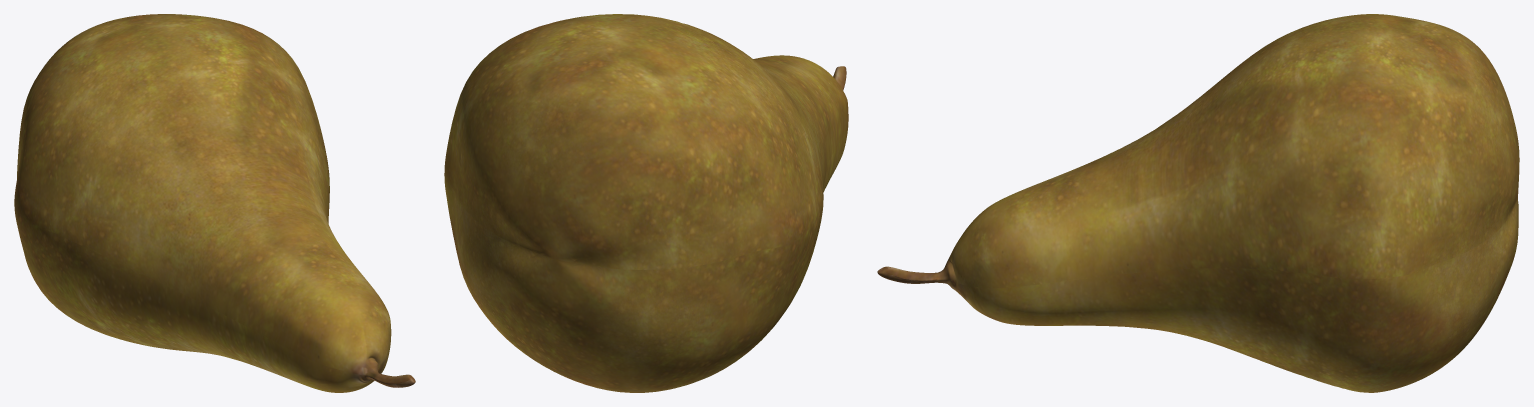
Rendered from 10197_Pear.obj.
3 renders of one model, left to right at view 1: azimuth 30°, elevation 25°; view 2: azimuth 150°, elevation 25°; view 3: azimuth 270°, elevation 25°, orthographic. The views are drawn at different scales.
Parts seen in each view (by area): view 1: Pear; view 2: Pear; view 3: Pear.
Boxes of the visible parts, x1,y1,x2,y2 form: Pear: (14,14,415,392); Pear: (444,14,848,392); Pear: (877,14,1519,392).
Bounding box in the file's own units: 8.16 × 7.93 × 13.72.
Materials: 1 (1 with a texture image).
